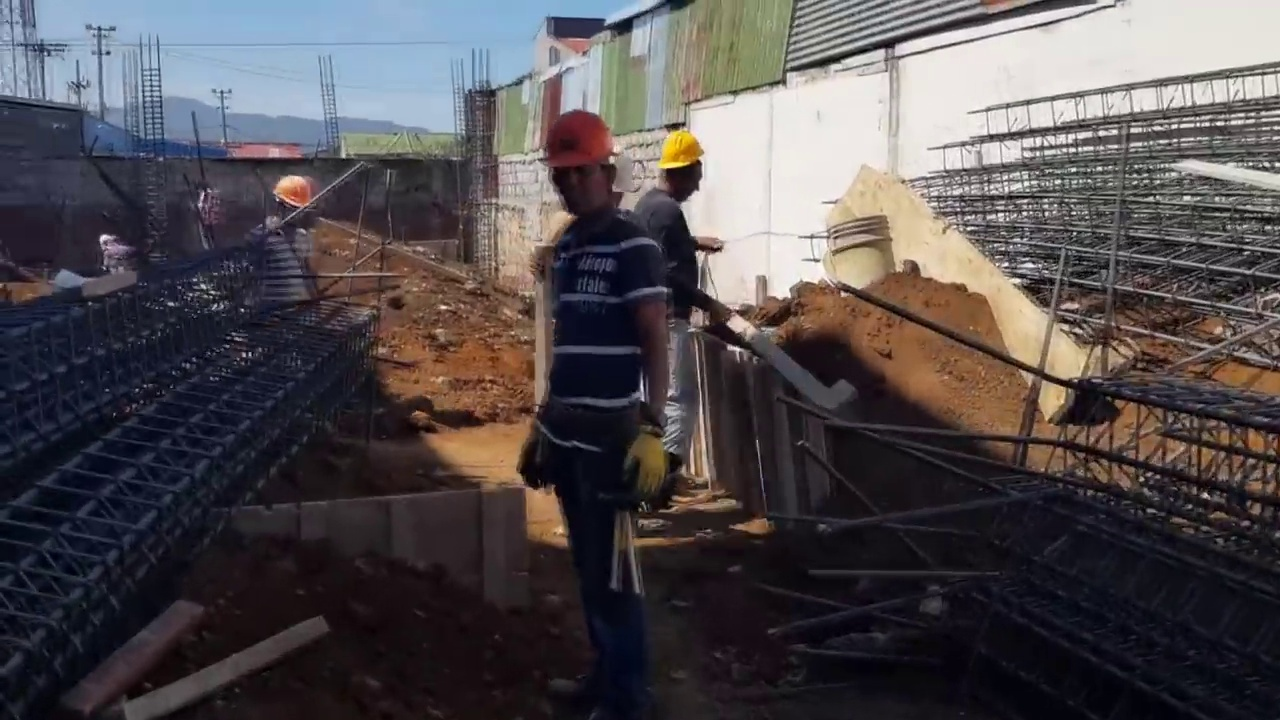helmet: (538, 110, 621, 168), (658, 127, 705, 169), (271, 173, 313, 209)
helmet-off: (193, 176, 209, 195)
helmet-on: (540, 110, 620, 234), (268, 172, 316, 224)
person: (521, 88, 676, 657), (643, 111, 736, 483), (256, 167, 321, 304), (190, 175, 226, 252)
